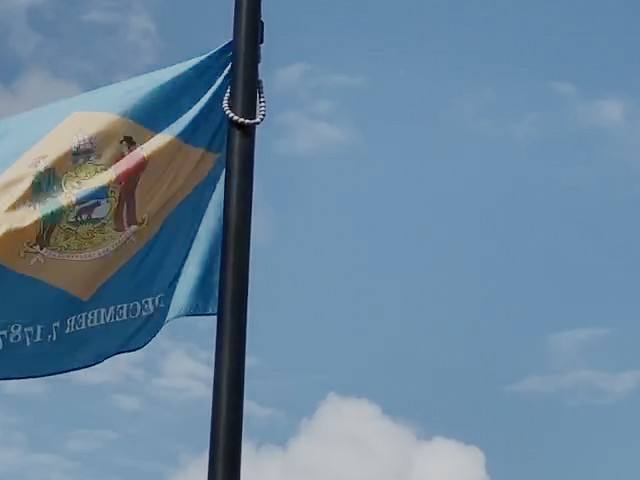Delaware flag: (2, 33, 237, 396)
